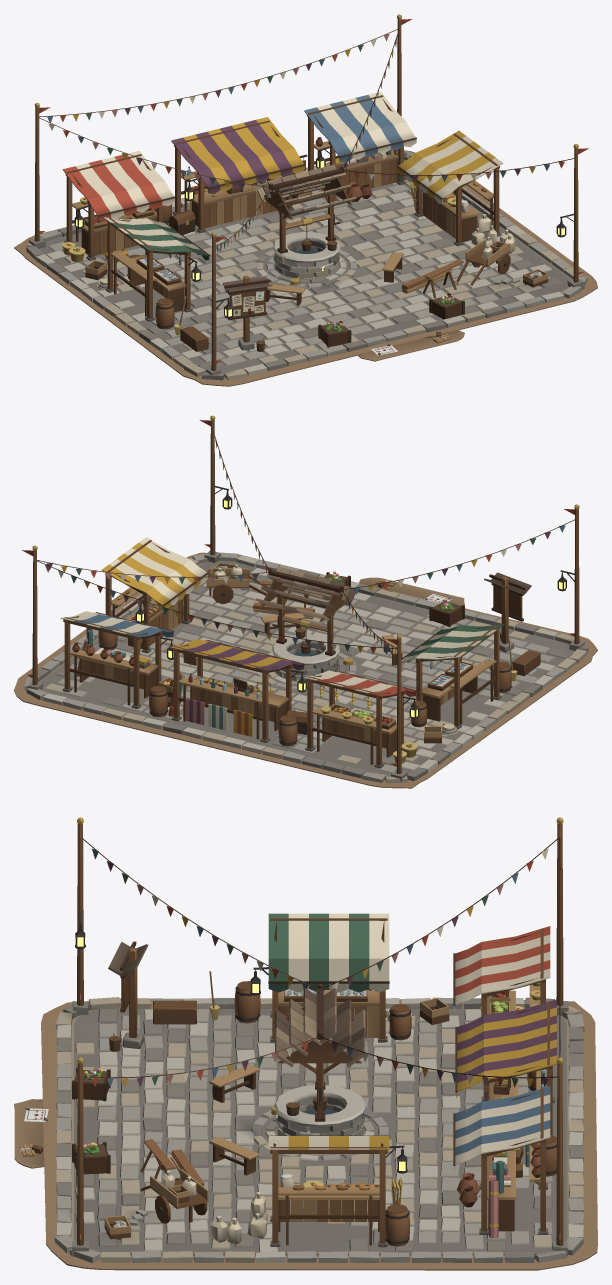
The model's file is market.glb.
3 views of the same model, one above another, from view 1: azimuth 30°, elevation 25°; view 2: azimuth 150°, elevation 25°; view 3: azimuth 270°, elevation 25° (orthographic). The views are drawn at different scales.
Parts seen in each view (by area): view 1: stage_03_mesh, stage_06_mesh, stage_07_mesh, stage_02_mesh, stage_01_mesh, stage_13_mesh, stage_05_mesh, stage_12_mesh, stage_14_mesh, stage_04_mesh, awning_02, awning_01 (+10 smaller); view 2: stage_03_mesh, stage_06_mesh, stage_02_mesh, stage_07_mesh, stage_01_mesh, stage_13_mesh, stage_05_mesh, stage_12_mesh, stage_10_mesh, stage_04_mesh, stage_14_mesh, stage_09_mesh (+6 smaller); view 3: stage_03_mesh, stage_07_mesh, stage_02_mesh, stage_01_mesh, stage_06_mesh, stage_13_mesh, stage_05_mesh, stage_12_mesh, stage_04_mesh, awning_04, stage_09_mesh, stage_14_mesh (+9 smaller).
Part boxes in pixels (x1,y1,x2,y2): stage_03_mesh: (40,160,570,372); stage_06_mesh: (64,95,501,321); stage_07_mesh: (62,91,503,252); stage_02_mesh: (26,150,587,380); stage_01_mesh: (14,150,597,386); stage_13_mesh: (85,173,515,351); stage_05_mesh: (257,164,356,253); stage_12_mesh: (28,14,588,376); stage_14_mesh: (74,146,574,347); stage_04_mesh: (273,232,340,285); awning_02: (198,148,305,194); awning_01: (88,181,175,221); stage_03_mesh: (40,560,573,775); stage_06_mesh: (62,540,501,768); stage_02_mesh: (24,552,588,783); stage_07_mesh: (60,537,503,696); stage_01_mesh: (14,544,597,788); stage_13_mesh: (98,564,540,746); stage_05_mesh: (256,566,355,656); stage_12_mesh: (22,415,584,782); stage_10_mesh: (168,654,307,736); stage_04_mesh: (272,628,353,680); stage_14_mesh: (135,486,574,718); stage_09_mesh: (72,630,489,735); stage_03_mesh: (74,1008,566,1255); stage_07_mesh: (268,913,556,1153); stage_02_mesh: (54,997,584,1263); stage_01_mesh: (14,994,597,1270); stage_06_mesh: (140,918,554,1247); stage_13_mesh: (140,971,556,1246); stage_05_mesh: (274,983,365,1121); stage_12_mesh: (71,817,568,1256); stage_04_mesh: (271,1085,366,1135); awning_04: (268,958,389,992); stage_09_mesh: (284,989,540,1237); stage_14_mesh: (72,913,407,1175).
Size of the model in its own units: 14.58 by 5 by 13.27.
